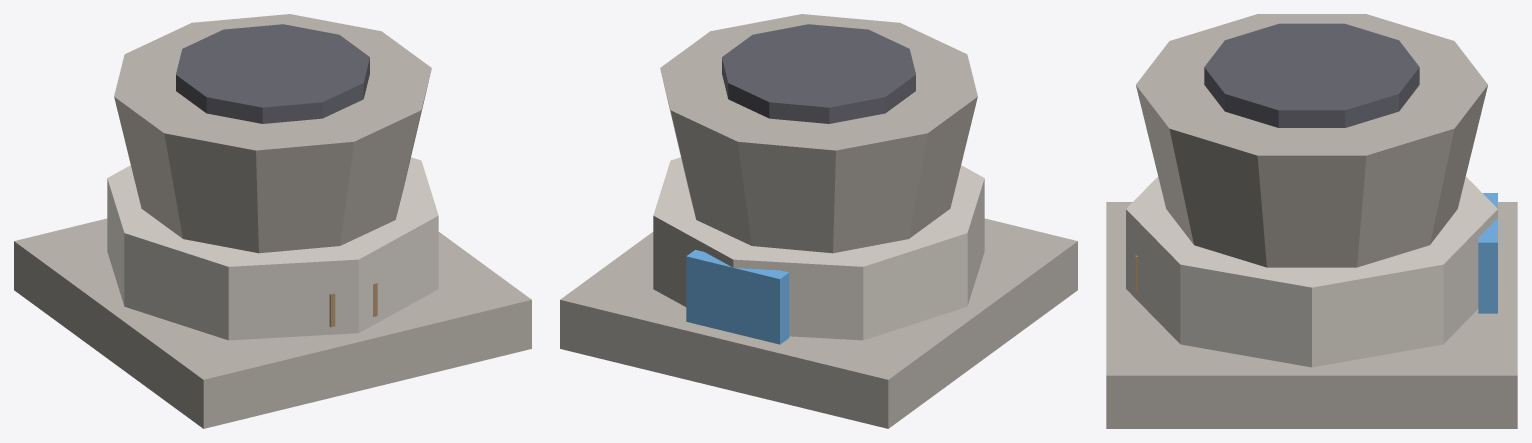
Rendered from mortar.glb.
3 views of the same model, side by side, from view 1: azimuth 30°, elevation 25°; view 2: azimuth 150°, elevation 25°; view 3: azimuth 270°, elevation 25° (orthographic). The views are drawn at different scales.
Parts seen in each view (by area): view 1: mortar; view 2: mortar; view 3: mortar.
Part boxes in pixels (bbox=[...]): mortar: bbox=[14, 14, 531, 428]; mortar: bbox=[560, 14, 1077, 428]; mortar: bbox=[1106, 14, 1517, 428].
Bounding box in the file's own units: 2.1 × 1.55 × 2.1.
